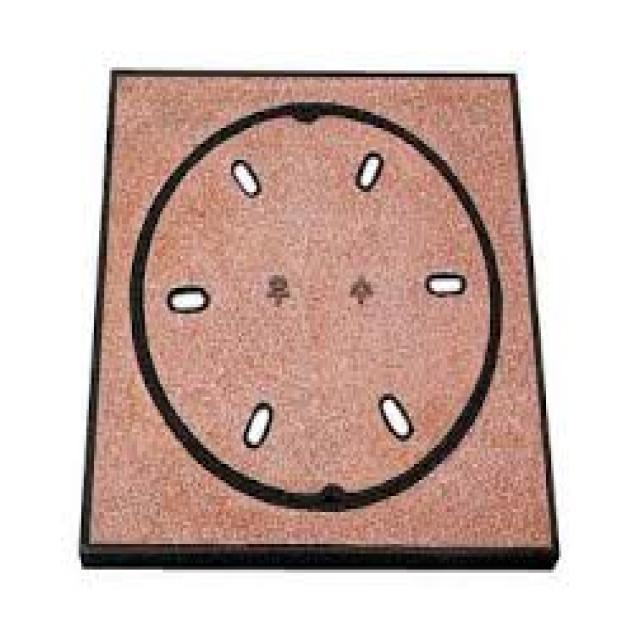manhole: (82, 71, 558, 568)
